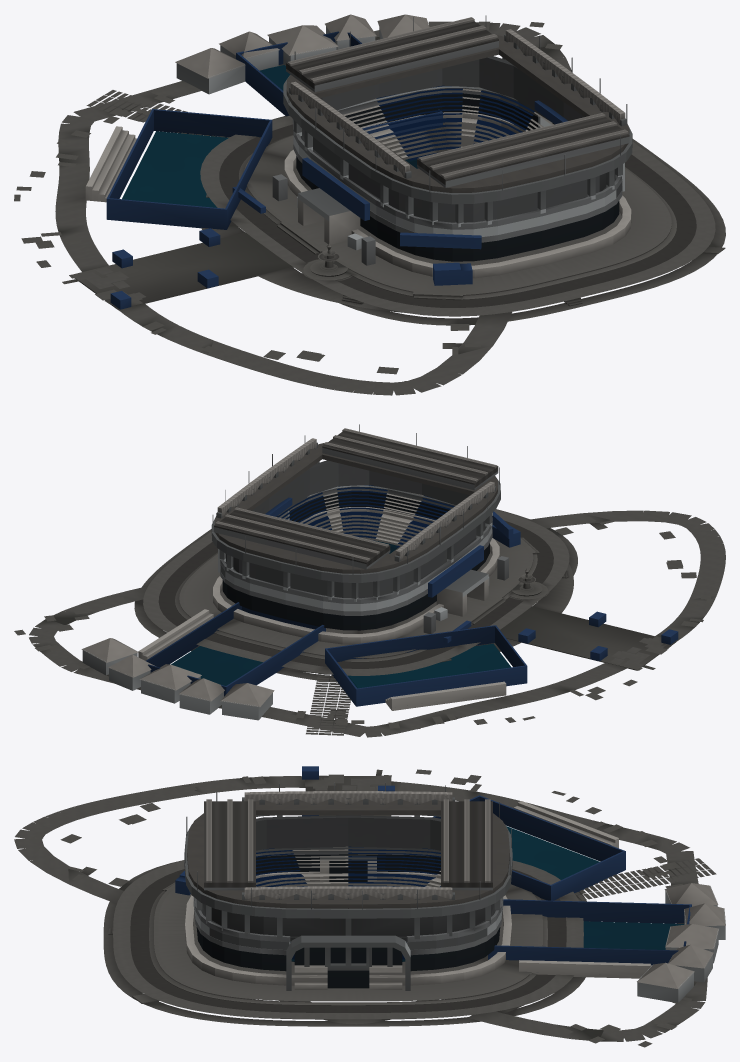
The model's file is rod-laver-lod1.glb.
3 renders of one model, top to bottom at view 1: azimuth 30°, elevation 25°; view 2: azimuth 150°, elevation 25°; view 3: azimuth 270°, elevation 25°, orthographic. The views are drawn at different scales.
Visible parts, largest first — view 1: fringe:rod-laver-forecourt, fringe:rod-laver-roof-frame, fringe:rod-laver-paths-furniture, fringe:rod-laver-arena-shell, fringe:rod-laver-court-fences, fringe:rod-laver-event-structures, fringe:rod-laver-roof-leaf-south, fringe:rod-laver-roof-leaf-north, fringe:rod-laver-show-court-a, fringe:rod-laver-bowl-court, fringe:rod-laver-signs-lights; view 2: fringe:rod-laver-paths-furniture, fringe:rod-laver-forecourt, fringe:rod-laver-roof-frame, fringe:rod-laver-arena-shell, fringe:rod-laver-court-fences, fringe:rod-laver-event-structures, fringe:rod-laver-roof-leaf-north, fringe:rod-laver-roof-leaf-south, fringe:rod-laver-show-court-a, fringe:rod-laver-bowl-court, fringe:rod-laver-show-court-b, fringe:rod-laver-signs-lights; view 3: fringe:rod-laver-forecourt, fringe:rod-laver-roof-frame, fringe:rod-laver-arena-shell, fringe:rod-laver-paths-furniture, fringe:rod-laver-court-fences, fringe:rod-laver-event-structures, fringe:rod-laver-roof-leaf-north, fringe:rod-laver-roof-leaf-south, fringe:rod-laver-show-court-b, fringe:rod-laver-bowl-court, fringe:rod-laver-show-court-a.
Boxes of the visible parts, left/top/right/bottom form: fringe:rod-laver-forecourt: left=200, top=115, right=725, bottom=325; fringe:rod-laver-roof-frame: left=283, top=29, right=632, bottom=223; fringe:rod-laver-paths-furniture: left=14, top=21, right=655, bottom=395; fringe:rod-laver-arena-shell: left=284, top=86, right=631, bottom=278; fringe:rod-laver-court-fences: left=106, top=31, right=442, bottom=229; fringe:rod-laver-event-structures: left=110, top=14, right=429, bottom=309; fringe:rod-laver-roof-leaf-south: left=286, top=17, right=498, bottom=92; fringe:rod-laver-roof-leaf-north: left=417, top=113, right=629, bottom=187; fringe:rod-laver-show-court-a: left=85, top=126, right=228, bottom=207; fringe:rod-laver-bowl-court: left=343, top=85, right=553, bottom=168; fringe:rod-laver-signs-lights: left=232, top=15, right=627, bottom=249; fringe:rod-laver-paths-furniture: left=14, top=510, right=725, bottom=737; fringe:rod-laver-forecourt: left=134, top=509, right=577, bottom=681; fringe:rod-laver-roof-frame: left=211, top=438, right=500, bottom=598; fringe:rod-laver-arena-shell: left=213, top=485, right=499, bottom=644; fringe:rod-laver-court-fences: left=146, top=602, right=527, bottom=706; fringe:rod-laver-event-structures: left=81, top=577, right=678, bottom=720; fringe:rod-laver-roof-leaf-north: left=322, top=428, right=498, bottom=490; fringe:rod-laver-roof-leaf-south: left=214, top=507, right=390, bottom=569; fringe:rod-laver-show-court-a: left=348, top=643, right=510, bottom=710; fringe:rod-laver-bowl-court: left=277, top=485, right=454, bottom=553; fringe:rod-laver-show-court-b: left=138, top=609, right=262, bottom=685; fringe:rod-laver-signs-lights: left=212, top=424, right=513, bottom=643; fringe:rod-laver-forecourt: left=103, top=860, right=589, bottom=1026; fringe:rod-laver-roof-frame: left=184, top=791, right=512, bottom=942; fringe:rod-laver-arena-shell: left=185, top=847, right=511, bottom=990; fringe:rod-laver-paths-furniture: left=14, top=769, right=716, bottom=1047; fringe:rod-laver-court-fences: left=433, top=795, right=691, bottom=965; fringe:rod-laver-event-structures: left=302, top=766, right=725, bottom=1002; fringe:rod-laver-roof-leaf-north: left=204, top=799, right=255, bottom=890; fringe:rod-laver-roof-leaf-south: left=441, top=799, right=492, bottom=890; fringe:rod-laver-show-court-b: left=519, top=921, right=684, bottom=978; fringe:rod-laver-bowl-court: left=256, top=846, right=440, bottom=961; fringe:rod-laver-show-court-a: left=506, top=801, right=618, bottom=879.
Bounding box in the file's own units: 95.21 × 16.64 × 103.
Materials: 7 (7 with a texture image).
